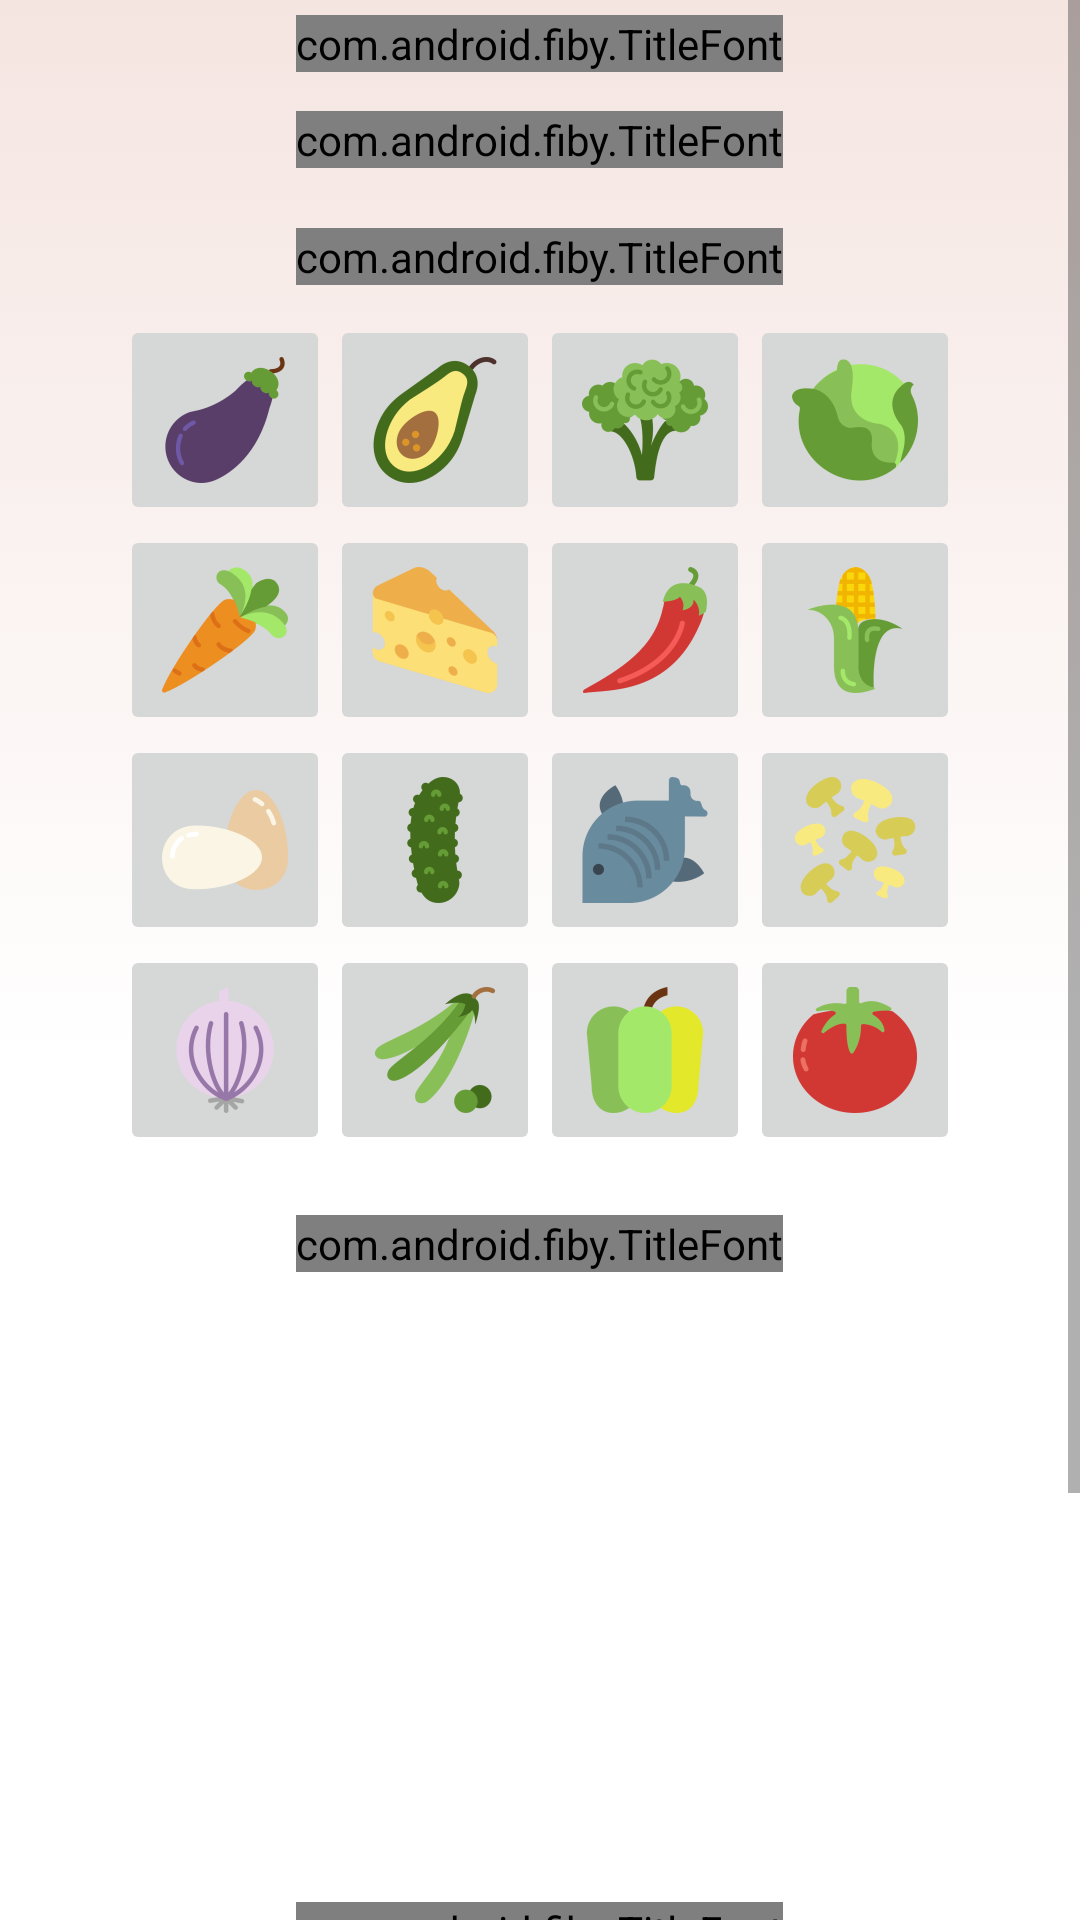

Icons on this 1080px x 1920px Android screen, each with its box as [x1,y1,x2,y2]:
aubergine: [132,333,318,507]
avocado: [342,333,528,507]
broccoli: [552,333,738,507]
cabbag: [762,333,948,507]
carrot: [132,543,318,717]
cheese: [342,543,528,717]
chili: [552,543,738,717]
corn: [762,543,948,717]
cucumber: [342,753,528,927]
eggs: [132,753,318,927]
fish: [552,753,738,927]
mushrooms: [762,753,948,927]
onion: [132,963,318,1137]
peas: [342,963,528,1137]
pepper: [552,963,738,1137]
tomato: [762,963,948,1137]
